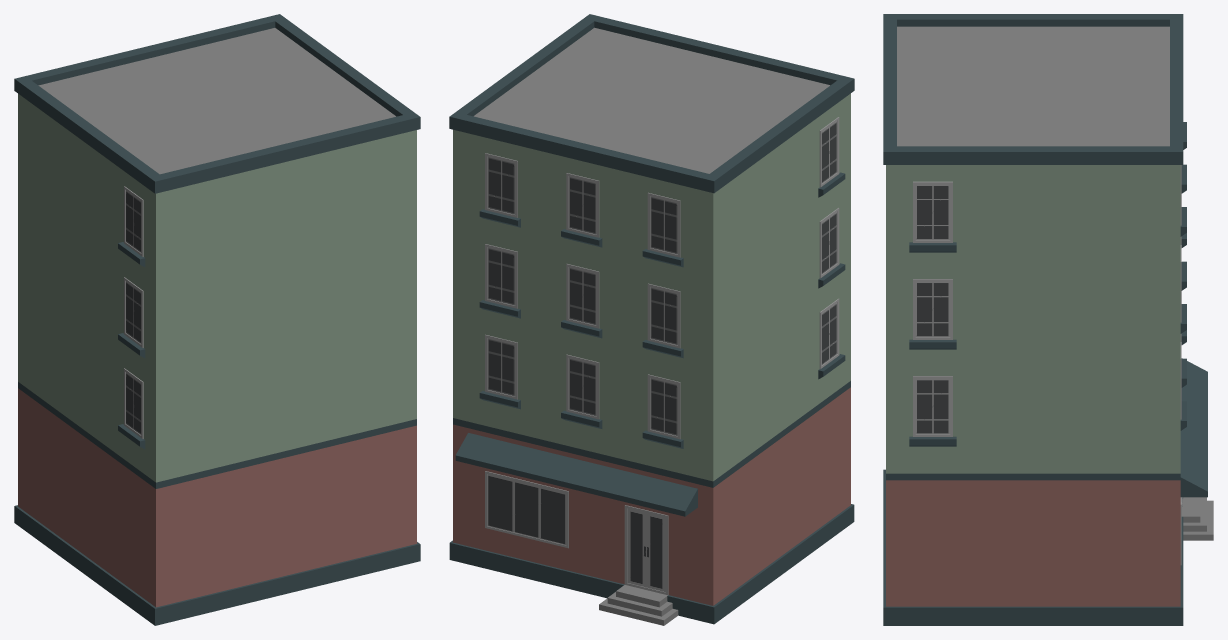
The model's file is spw-urban-bldg-shop-01.glb.
3 renders of one model, left to right at view 1: azimuth 30°, elevation 25°; view 2: azimuth 150°, elevation 25°; view 3: azimuth 270°, elevation 25°, orthographic. The views are drawn at different scales.
Visible parts, largest first — view 1: SPW_Urban_Bldg_Shop_01; view 2: SPW_Urban_Bldg_Shop_01; view 3: SPW_Urban_Bldg_Shop_01.
Part boxes in pixels (x1,y1,x2,y2): SPW_Urban_Bldg_Shop_01: (14,14,420,625); SPW_Urban_Bldg_Shop_01: (449,14,854,625); SPW_Urban_Bldg_Shop_01: (883,14,1213,625).
Size of the model in its own units: 10.6 by 16.59 by 10.48.
Materials: 1 (1 with a texture image).
